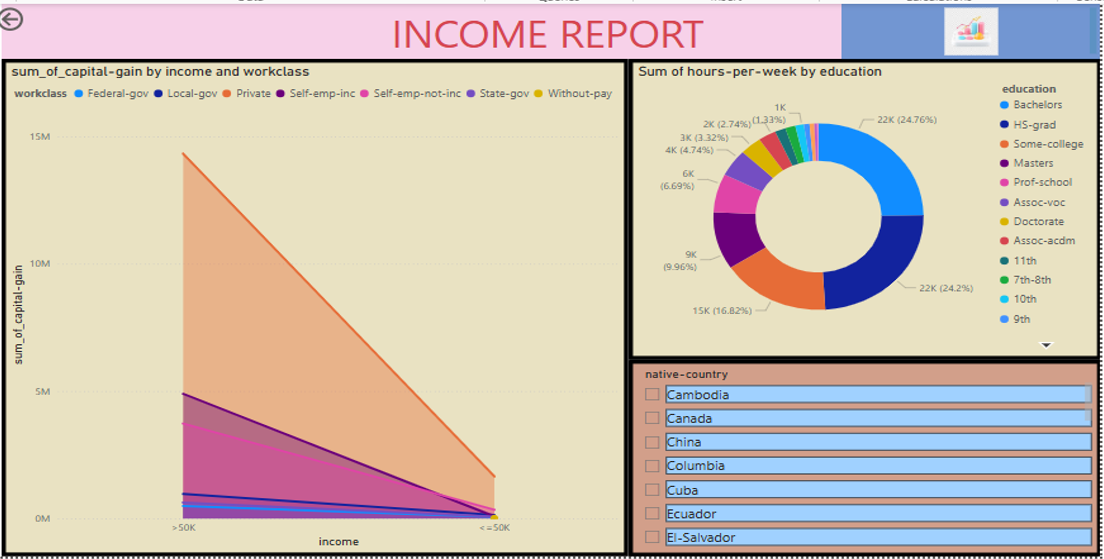

What the dashboard file says about the page in this screenshot:
{"tool":"powerbi","page":{"name":"Page 1","canvas":[1280,720],"ordinal":0},"visuals":[{"type":"textbox","box":[0,0,1280.5,71.7],"z":0},{"type":"areaChart","fields":{"Category":["income_evaluation. income"],"Y":["income_evaluation.sum_of_capital-gain"],"Series":["income_evaluation. workclass"]},"box":[0,71.7,734.6,648.3],"z":1000},{"type":"donutChart","fields":{"Category":["income_evaluation. education"],"Y":["Sum(income_evaluation. hours-per-week)"]},"box":[734.6,71.7,545.9,392.2],"z":2000},{"type":"actionButton","box":[0,0,100,40],"z":3000},{"type":"slicer","fields":{"Values":["income_evaluation. native-country"]},"box":[734.6,463.9,545.9,256.1],"z":4000},{"type":"image","box":[980.5,0,300,71.7],"z":5000}]}

Visuals, with their boxes in screenshot pixels (x1, y1, x2, y2):
textbox: box(66, 3, 1044, 58)
areaChart - income_evaluation. income x income_evaluation.sum_of_capital-gain: box(66, 58, 627, 553)
donutChart - income_evaluation. education x Sum(income_evaluation. hours-per-week): box(627, 58, 1044, 357)
actionButton: box(66, 3, 143, 33)
slicer - income_evaluation. native-country: box(627, 357, 1044, 553)
image: box(815, 3, 1044, 58)
